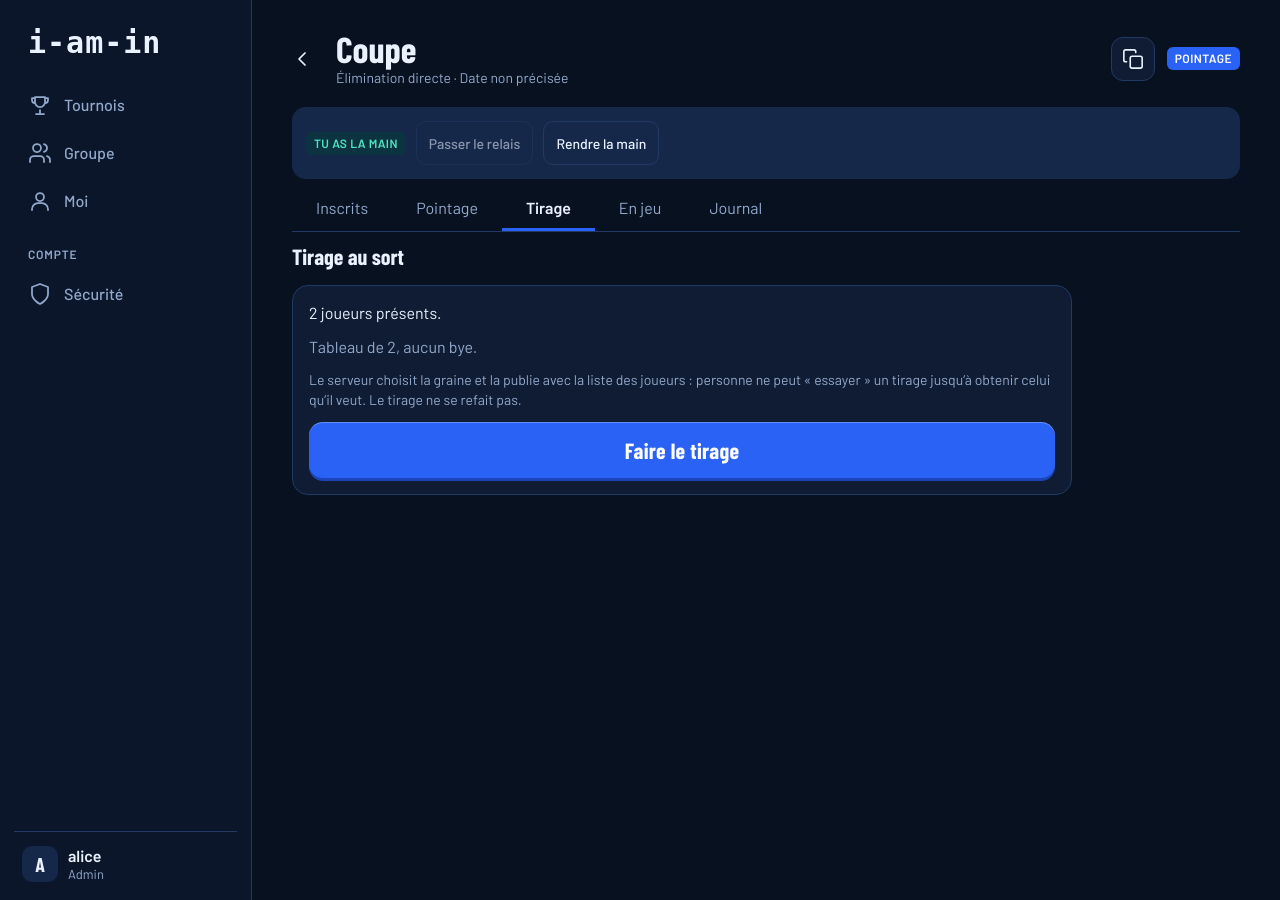
Test: tirage : les matchs s’ouvrent sans clic de plus › après le tirage, on arrive directement sur les matchs du premier tour
Click the button "Faire le tirage" at [682, 450], box [309,422,1055,478]
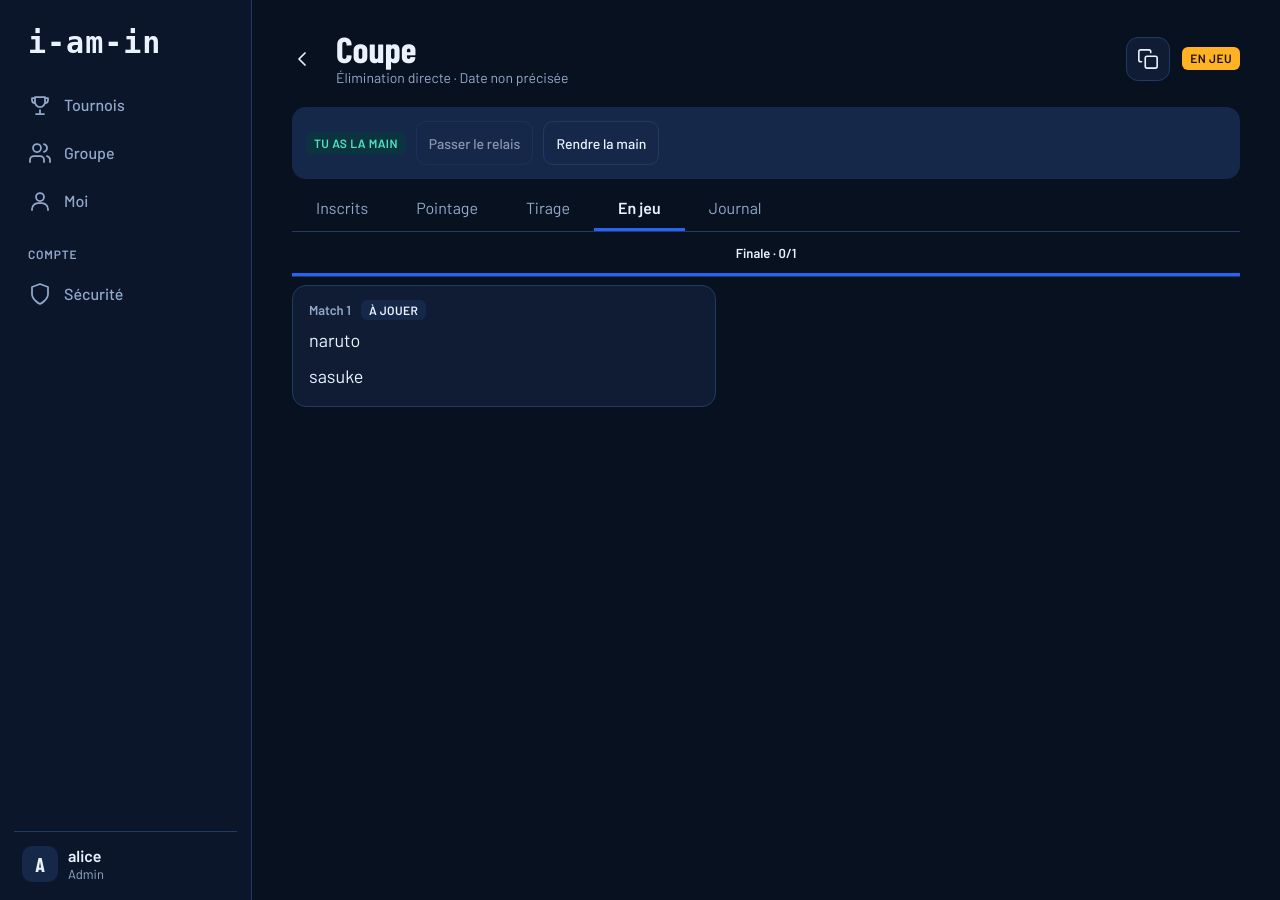
Result: the button with aria-label "Désigner le vainqueur du match 1" is shown at [292,285,716,407]
Result: the tab "Finale · 0/1" is shown at [292,232,1240,276]
